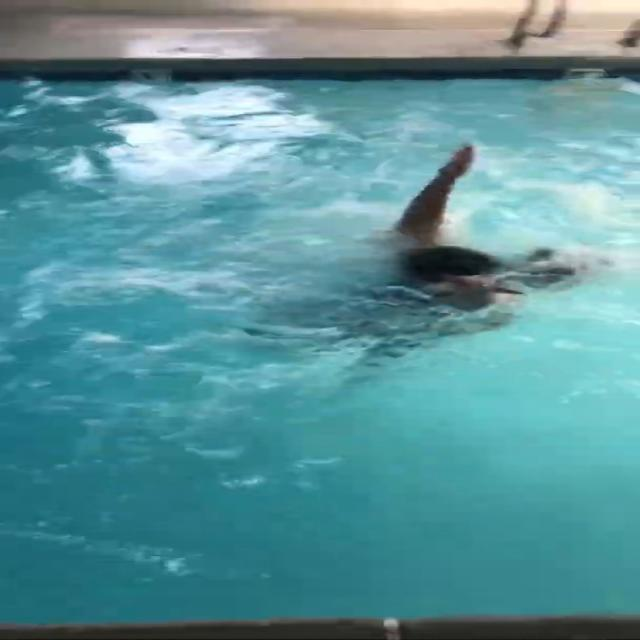Drowning: (290, 153, 630, 410)
